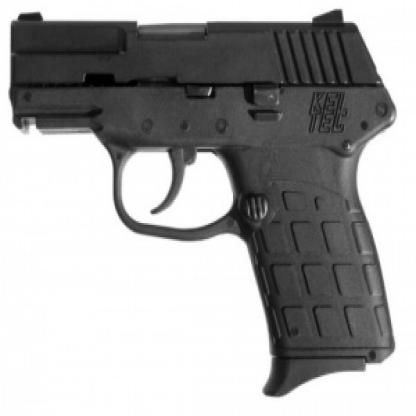Guns: (4, 7, 398, 400)
